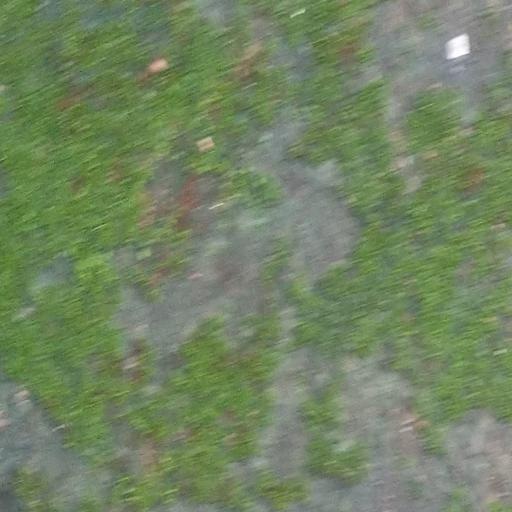algae: (3, 3, 512, 512)
